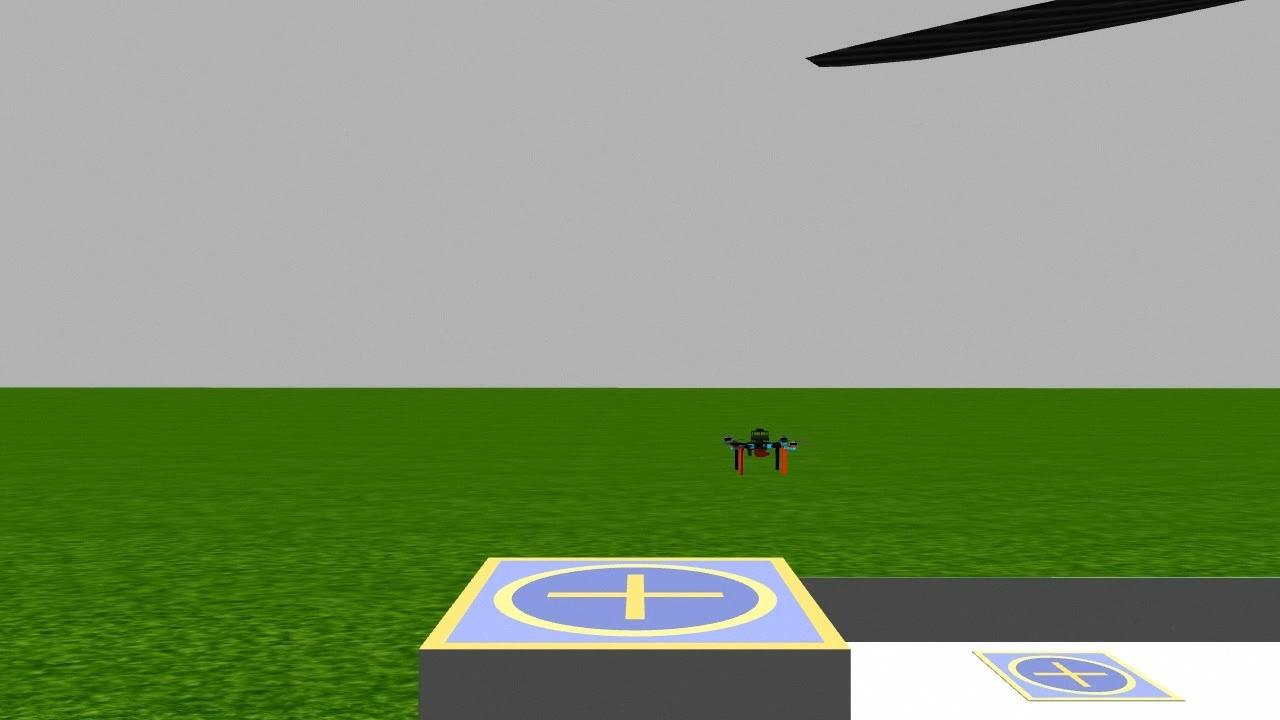UAV: (714, 406, 810, 488)
